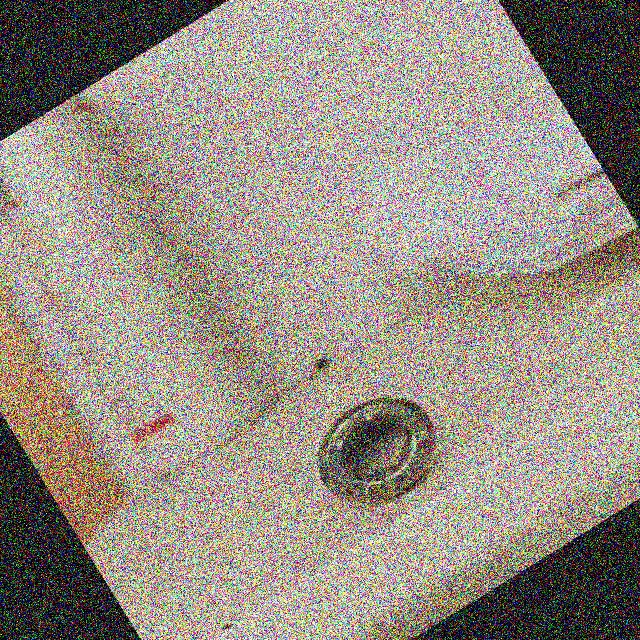allen: (297, 374, 457, 526)
